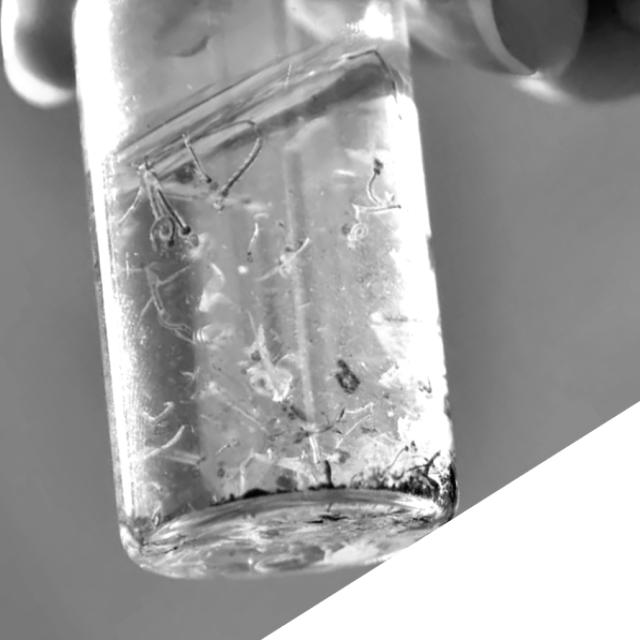larvas: (209, 131, 269, 217), (340, 46, 399, 92), (154, 177, 193, 240), (140, 168, 167, 224), (182, 134, 213, 181), (366, 158, 388, 205), (163, 184, 208, 204), (147, 221, 166, 257), (349, 205, 404, 216), (142, 406, 172, 426), (216, 434, 240, 456), (386, 444, 408, 466), (347, 224, 368, 247), (245, 222, 257, 260), (159, 214, 174, 243), (224, 120, 259, 130), (418, 375, 430, 399)
